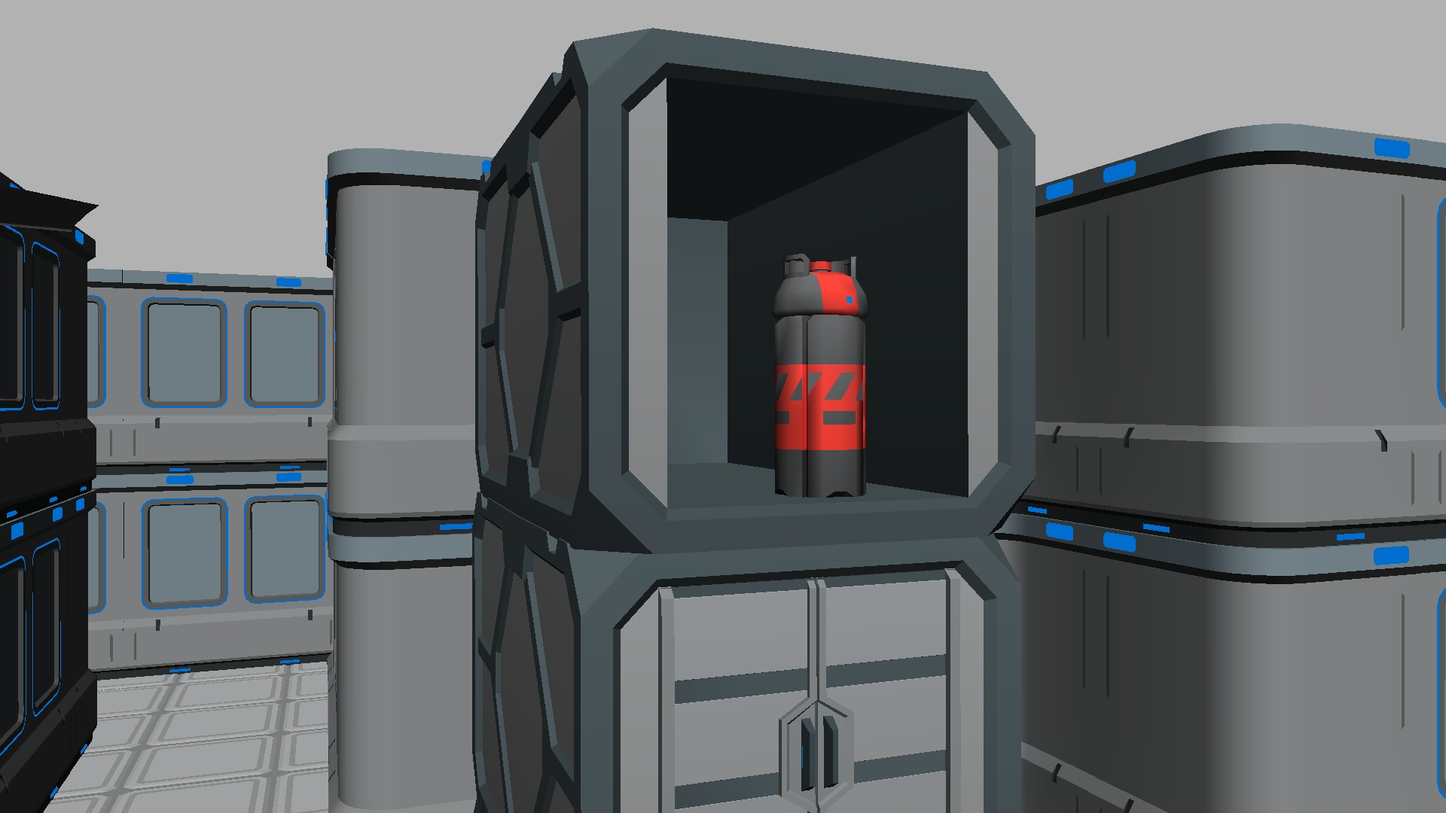red barrel: (772, 254, 867, 498)
